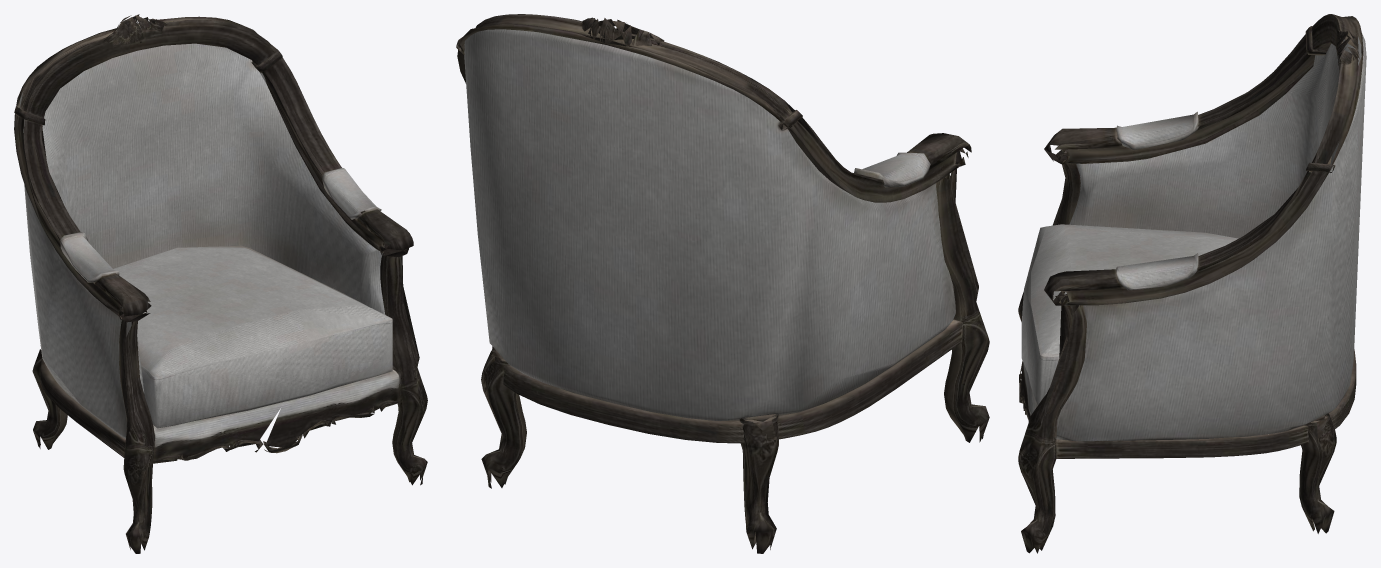
Rendered from ArmChair_01_1k.glb.
The picture shows the model from 3 angles, left to right: view 1: azimuth 30°, elevation 25°; view 2: azimuth 150°, elevation 25°; view 3: azimuth 270°, elevation 25°; orthographic projection. The views are drawn at different scales.
Visible parts, largest first — view 1: ArmChair_01; view 2: ArmChair_01; view 3: ArmChair_01.
Part boxes in pixels (x1,y1,x2,y2): ArmChair_01: (14,14,427,553); ArmChair_01: (456,14,989,553); ArmChair_01: (1018,14,1366,553).
Size of the model in its own units: 0.8484 by 1.06 by 0.7621.
Materials: 1 (1 with a texture image).
